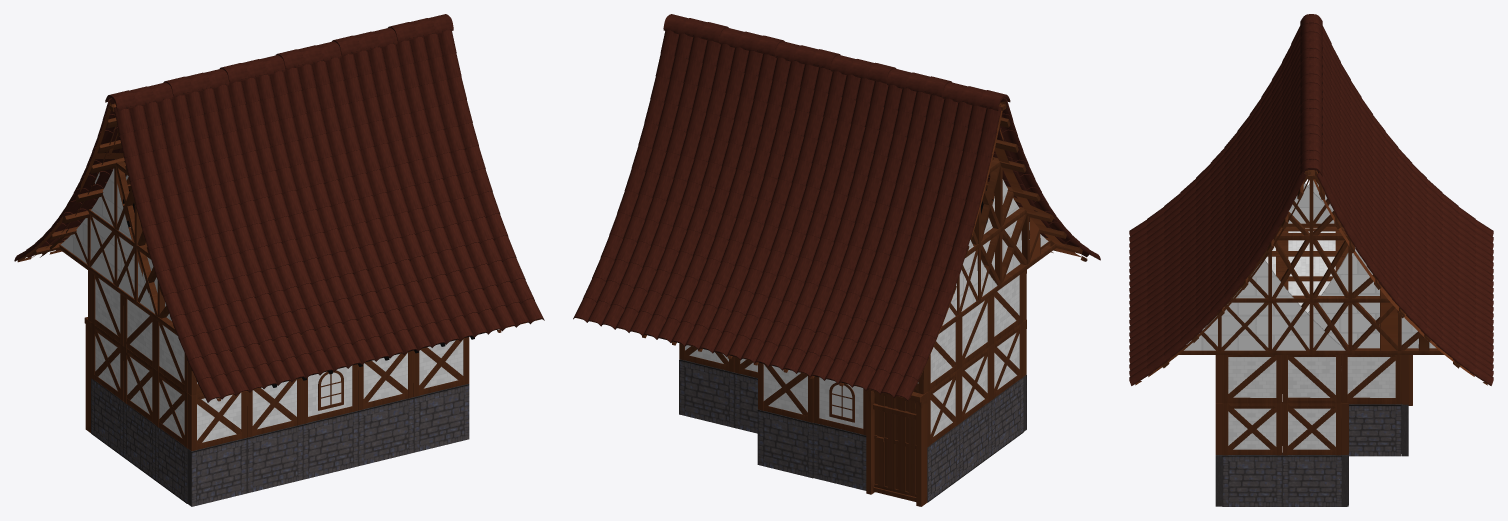
The model's file is House4_LOD1.fbx.
3 views of the same model, side by side, from view 1: azimuth 30°, elevation 25°; view 2: azimuth 150°, elevation 25°; view 3: azimuth 270°, elevation 25° (orthographic). The views are drawn at different scales.
Parts seen in each view (by area): view 1: House4_LOD1; view 2: House4_LOD1; view 3: House4_LOD1.
Boxes of the visible parts, x1,y1,x2,y2 form: House4_LOD1: (14, 14, 544, 506); House4_LOD1: (573, 14, 1100, 506); House4_LOD1: (1129, 14, 1493, 506).
Size of the model in its own units: 1285 by 1384 by 1292.
